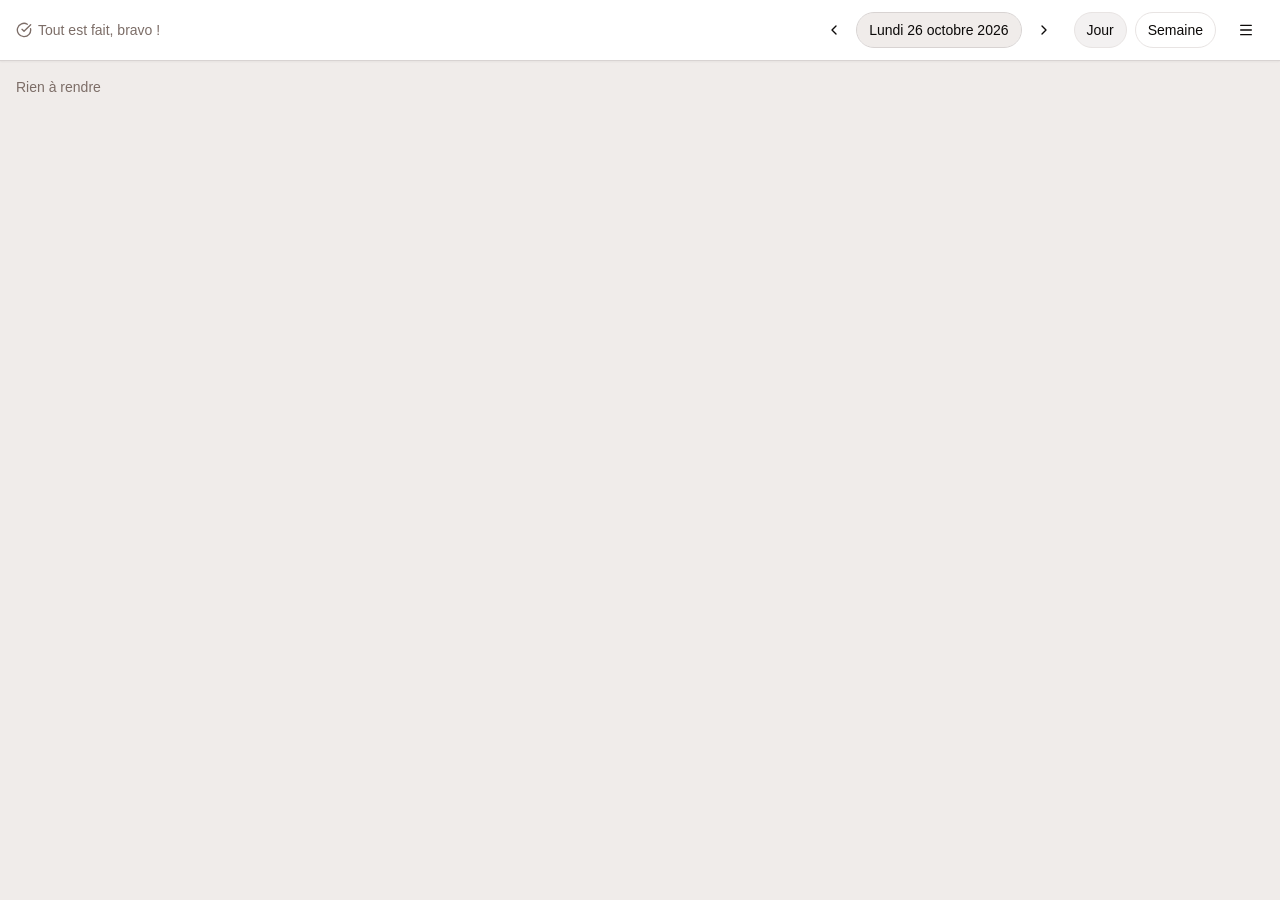
Scenario: the top bar › translates the calendar and notification landmarks
Click the button with aria-label "Choisir une date" at [939, 30], box left=856, top=12, right=1022, bottom=48
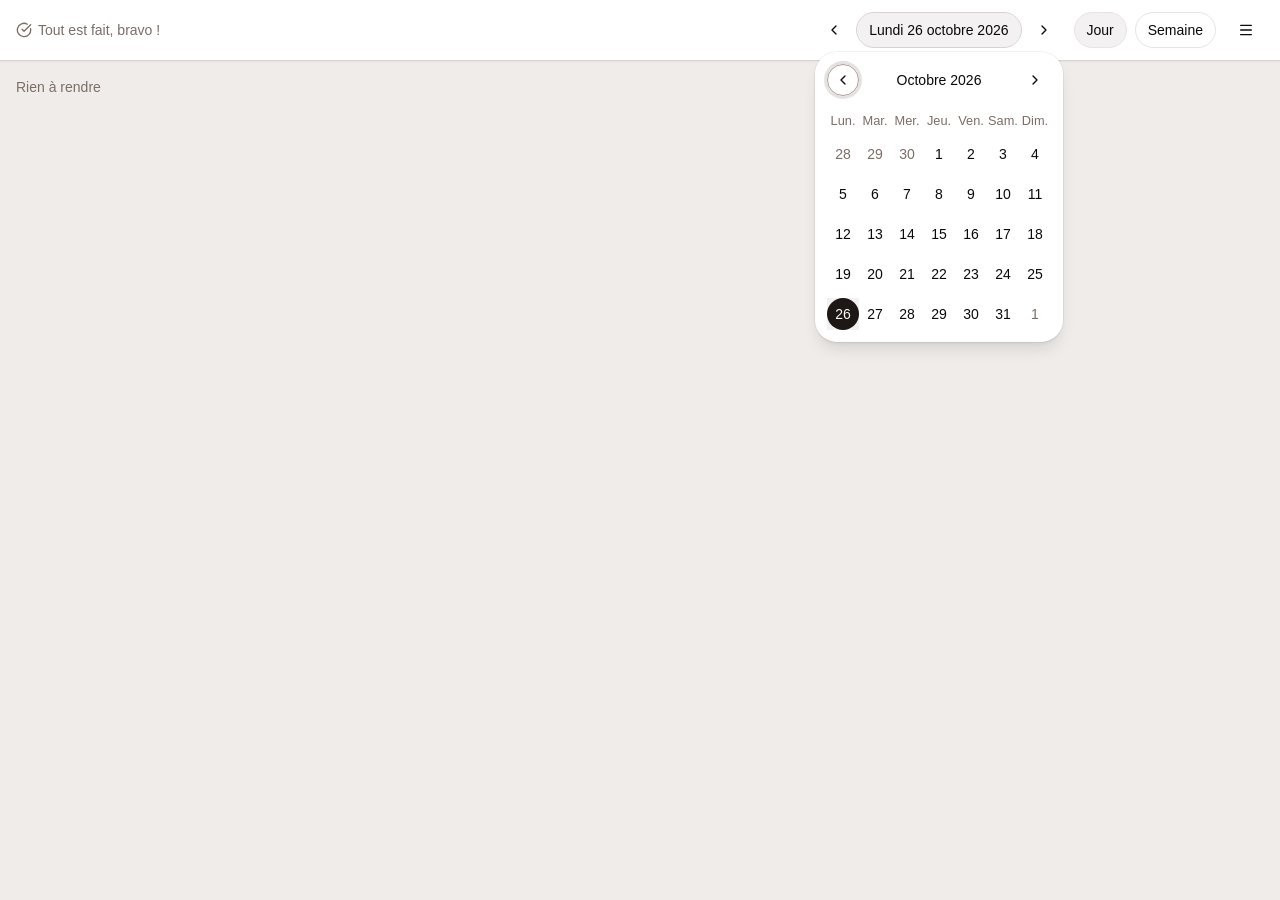
Expected: the navigation bar named "Calendrier" is shown, left=827, top=64, right=1051, bottom=96
